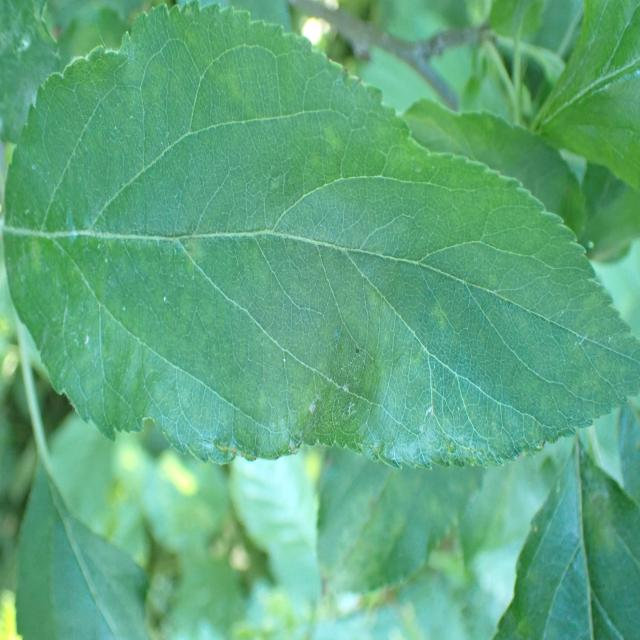scab: (31, 99, 501, 434)
